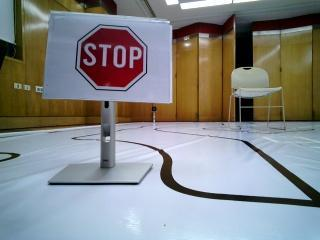stop: (56, 14, 169, 96)
